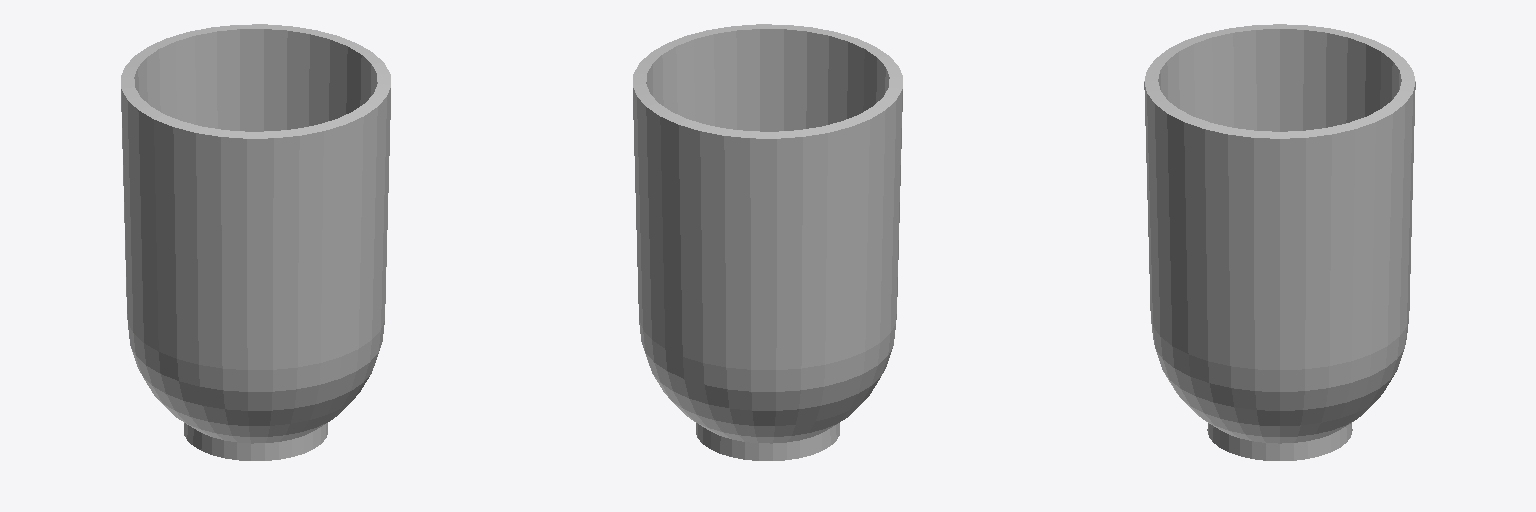
File: basin.obj
3 renders of one model, left to right at view 1: azimuth 30°, elevation 25°; view 2: azimuth 150°, elevation 25°; view 3: azimuth 270°, elevation 25°, orthographic.
Parts seen in each view (by area): view 1: Cylinder; view 2: Cylinder; view 3: Cylinder.
Part boxes in pixels (x1,y1,x2,y2): Cylinder: (121,24,390,460); Cylinder: (633,24,902,460); Cylinder: (1144,24,1415,460).
Bounding box in the file's own units: 2.1 × 3 × 2.1.